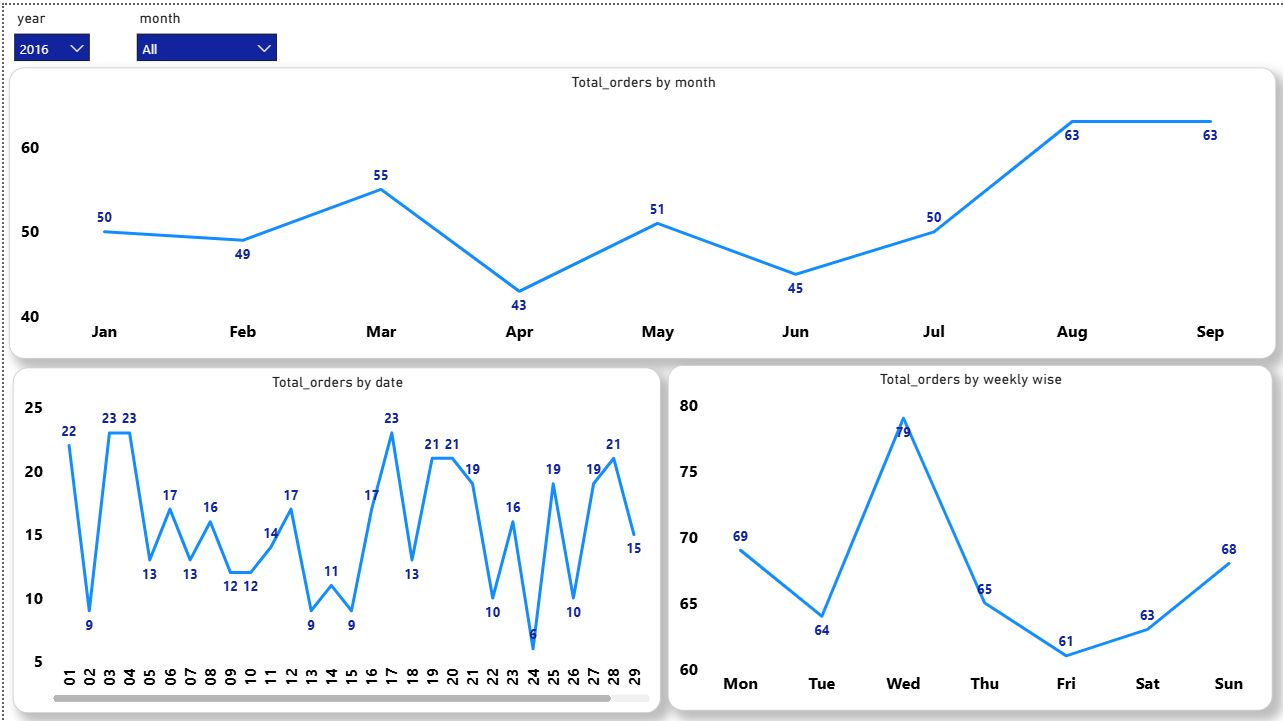

The page's visual inventory and layout, read from the dashboard file:
{"tool":"powerbi","page":{"name":"Business Insights3","canvas":[1280,720],"ordinal":4},"visuals":[{"type":"lineChart","fields":{"Y":["order_items.Total_orders"],"Category":["Calender_date.month"]},"box":[5,62.2,1267.6,291.1],"z":0},{"type":"lineChart","fields":{"Y":["order_items.Total_orders"],"Category":["Calender_date.date"]},"box":[8.7,362,648.1,345.8],"z":1000},{"type":"lineChart","title":"Total_orders by weekly wise","fields":{"Y":["order_items.Total_orders"],"Category":["Calender_date.day"]},"box":[664.3,359.5,604.6,345.8],"z":2000},{"type":"slicer","fields":{"Values":["Calender_date.year"]},"box":[0,0,95.6,57.8],"z":3000},{"type":"slicer","fields":{"Values":["Calender_date.month"]},"box":[121.9,0,160.5,57.2],"z":4000}]}

Visuals, with their boxes in screenshot pixels (x1, y1, x2, y2), scaled from the page's 1280x720 canvas onto the 1283x721 screenshot:
lineChart - order_items.Total_orders x Calender_date.month: {"x1": 5, "y1": 62, "x2": 1276, "y2": 354}
lineChart - order_items.Total_orders x Calender_date.date: {"x1": 9, "y1": 363, "x2": 658, "y2": 709}
"Total_orders by weekly wise" lineChart: {"x1": 666, "y1": 360, "x2": 1272, "y2": 706}
slicer - Calender_date.year: {"x1": 0, "y1": 0, "x2": 96, "y2": 58}
slicer - Calender_date.month: {"x1": 122, "y1": 0, "x2": 283, "y2": 57}
